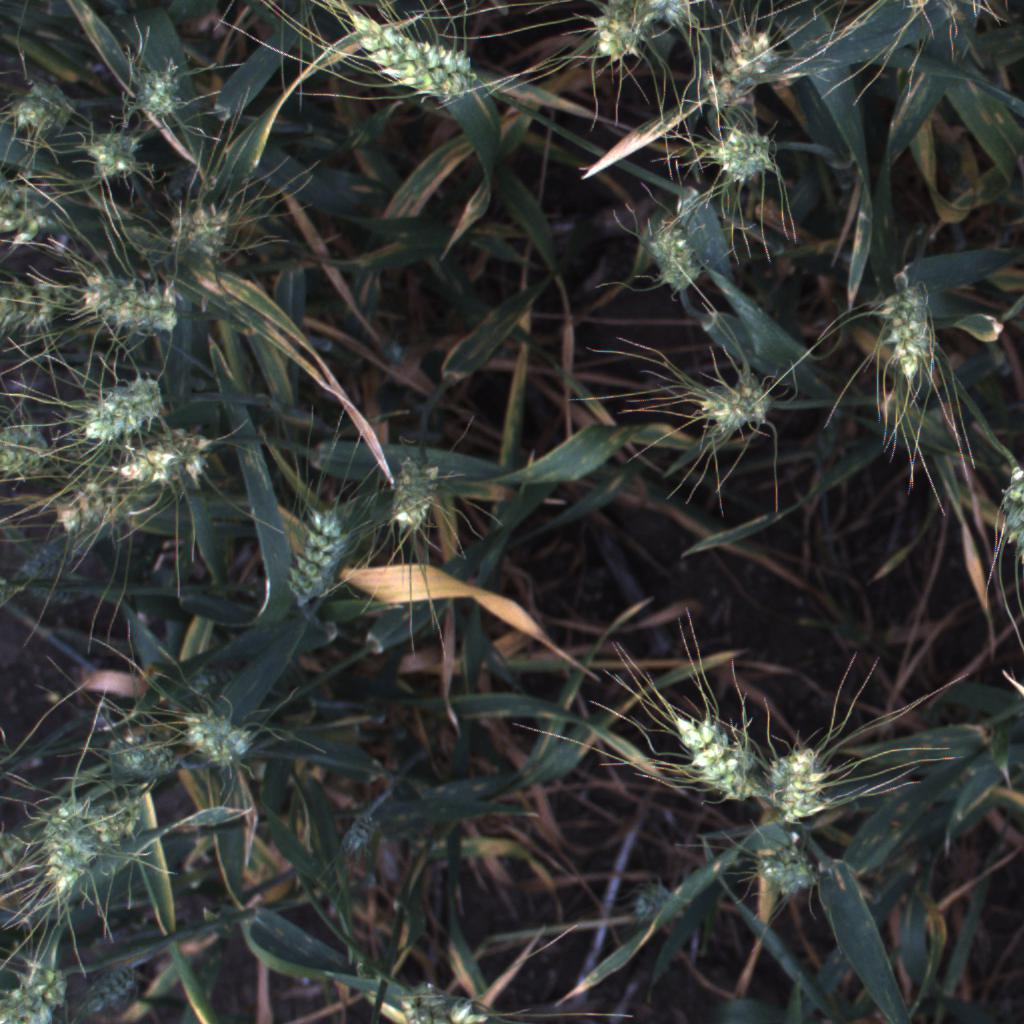0-0: (350, 3, 487, 116), (687, 13, 793, 123), (67, 251, 187, 341), (31, 780, 113, 909), (671, 706, 767, 806), (292, 492, 370, 610), (870, 270, 947, 389), (155, 173, 239, 274), (697, 111, 790, 197), (71, 371, 171, 447), (48, 479, 171, 540), (171, 698, 266, 774), (767, 729, 838, 830), (626, 217, 708, 301), (681, 380, 780, 444), (745, 840, 832, 910), (0, 268, 83, 340), (0, 951, 80, 1024), (101, 720, 183, 787), (125, 49, 191, 128), (125, 416, 223, 469), (389, 979, 504, 1024), (723, 354, 779, 441), (581, 0, 647, 72), (87, 791, 163, 852), (0, 407, 62, 481), (386, 451, 444, 530), (115, 449, 218, 493), (993, 450, 1024, 581), (88, 960, 149, 1024), (11, 79, 69, 136), (84, 133, 148, 183), (645, 0, 694, 45), (335, 820, 378, 869), (627, 887, 672, 922)
